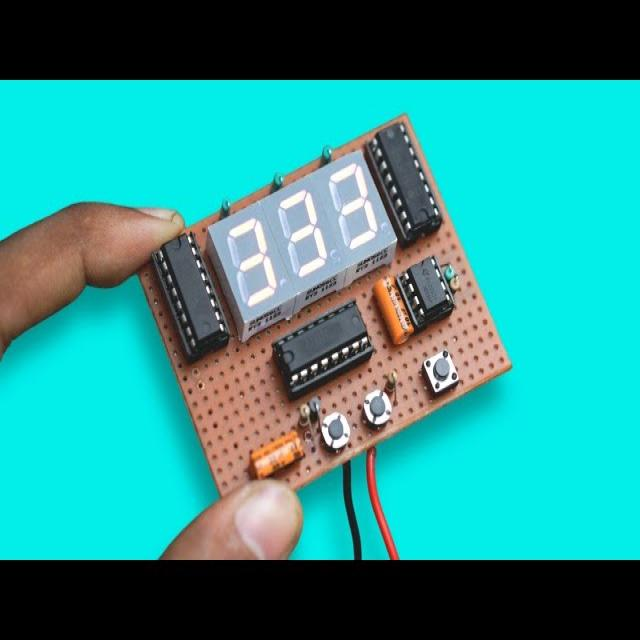Display: (213, 147, 399, 324)
